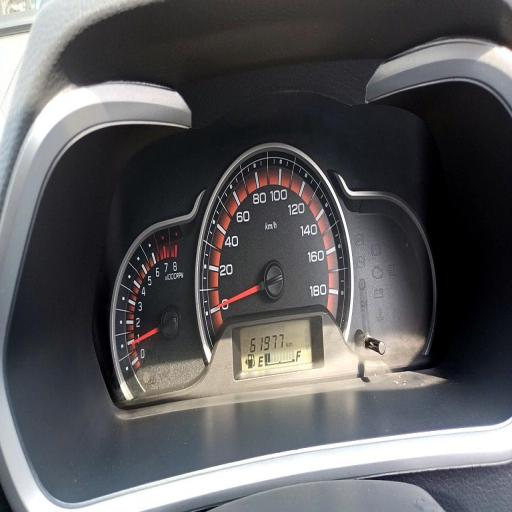tachometer: (110, 212, 203, 400)
